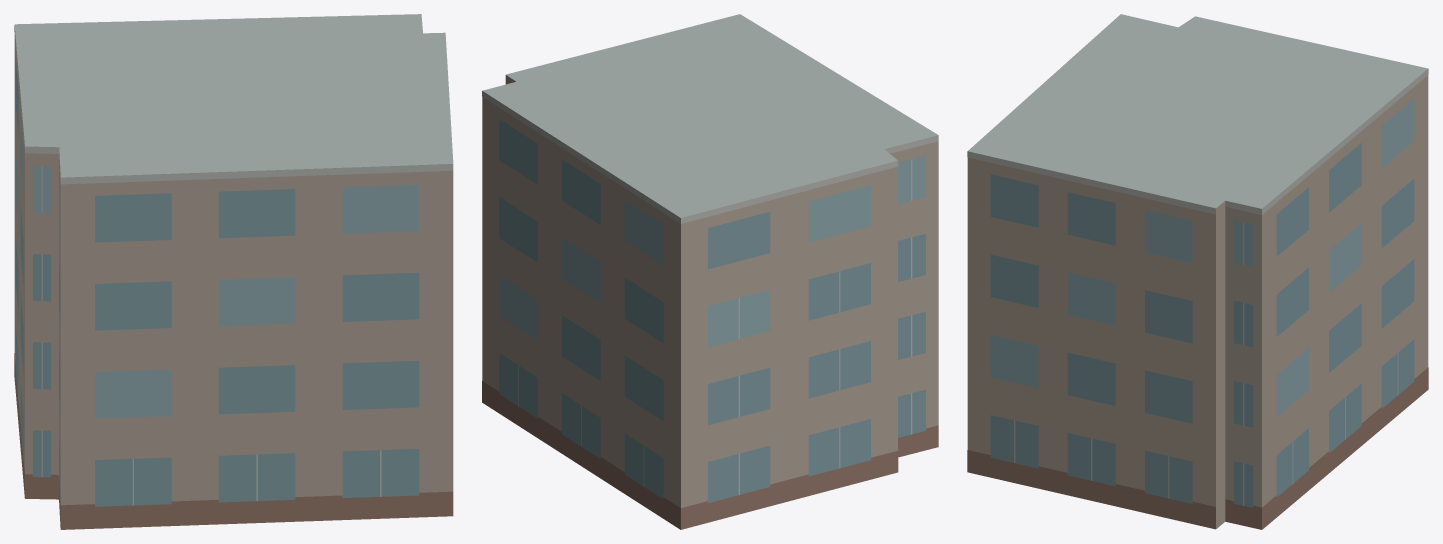
File: survey-upis-32972079.glb
3 views of the same model, side by side, from view 1: azimuth 30°, elevation 25°; view 2: azimuth 150°, elevation 25°; view 3: azimuth 270°, elevation 25° (orthographic). The views are drawn at different scales.
Visible parts, largest first — view 1: survey-upis-32972079.tmp; view 2: survey-upis-32972079.tmp; view 3: survey-upis-32972079.tmp.
Boxes of the visible parts, box(x1,y1,x2,y2) form: survey-upis-32972079.tmp: box(14, 14, 453, 529); survey-upis-32972079.tmp: box(482, 14, 938, 529); survey-upis-32972079.tmp: box(967, 14, 1428, 529).
Bounding box in the file's own units: 16.54 × 12.7 × 16.54.
